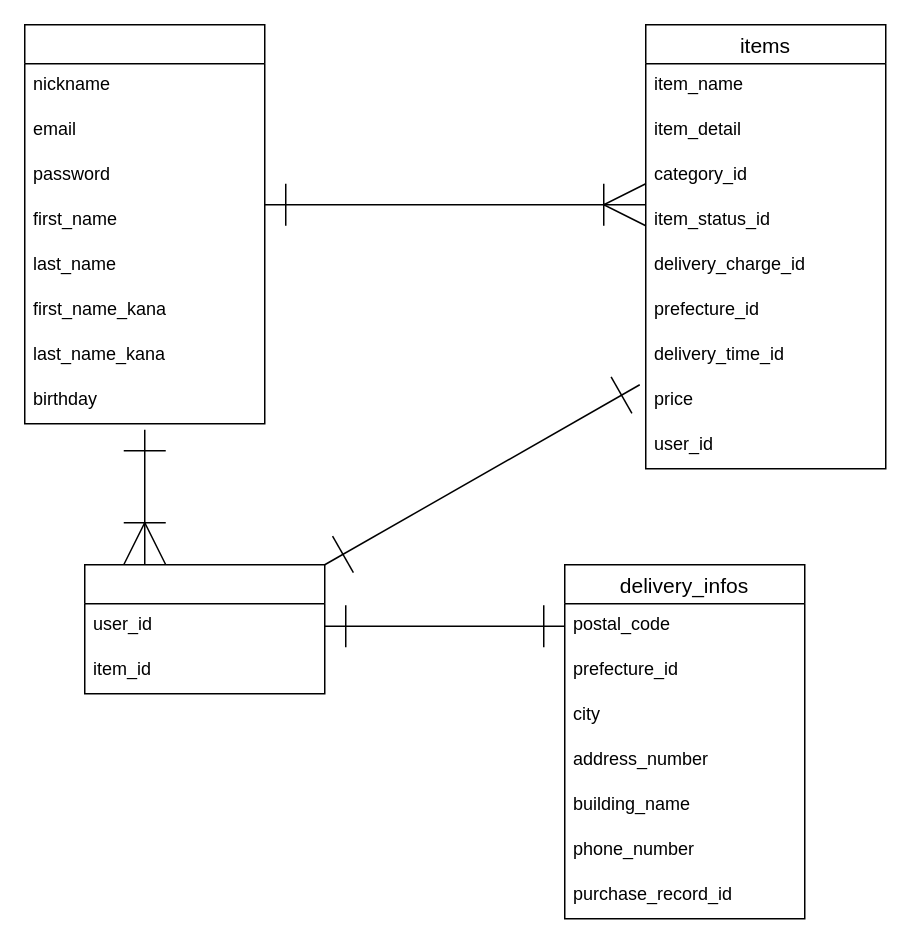
This 911x944 diagram has some shape labels left out. The shapes that lost their labels are listed below. From the top down, each one's box as (x1, y1, x2, y2) in pixels, then its label:
(23, 23, 265, 424): users
(83, 563, 325, 694): purchase_records
